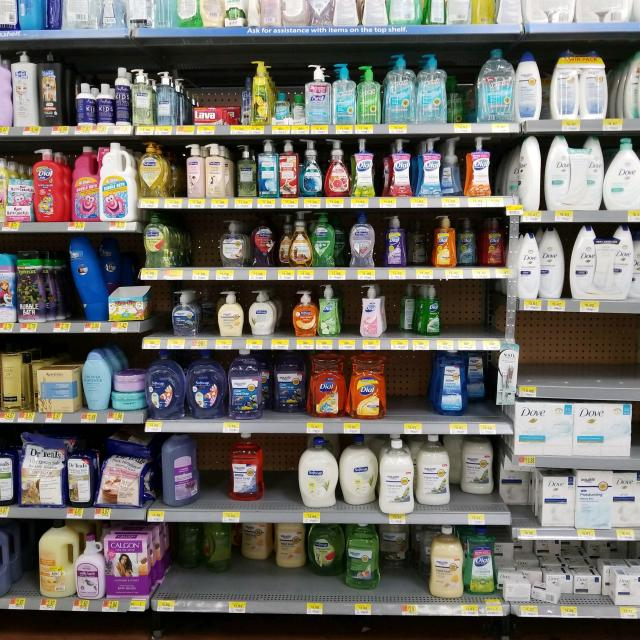void: (391, 352, 431, 436), (590, 316, 622, 406), (174, 213, 213, 283), (50, 240, 76, 338), (268, 438, 297, 524), (555, 322, 586, 402), (614, 48, 640, 142), (201, 435, 227, 527), (4, 521, 27, 622), (446, 283, 475, 357), (525, 322, 548, 404), (479, 284, 506, 352), (385, 284, 411, 352), (624, 323, 640, 404)
